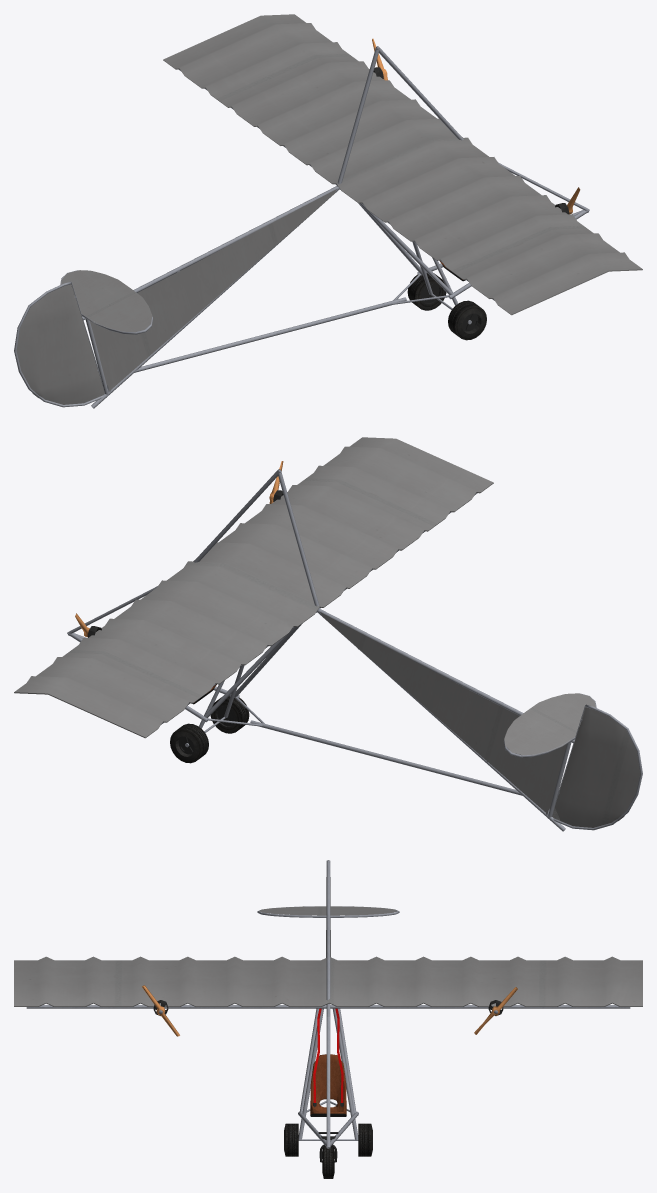
The model's file is avion_electrico.fbx.
3 renders of one model, top to bottom at view 1: azimuth 30°, elevation 25°; view 2: azimuth 150°, elevation 25°; view 3: azimuth 270°, elevation 25°, orthographic. The views are drawn at different scales.
Parts seen in each view (by area): view 1: avion_electrico, LLANTA_TRASERA_DER, LLANTA_TRASERA_IZQ; view 2: avion_electrico, LLANTA_TRASERA_IZQ, LLANTA_TRASERA_DER; view 3: avion_electrico, LLANTA_TRASERA_DER, LLANTA_TRASERA_IZQ.
Part boxes in pixels (x1,y1,x2,y2): avion_electrico: [14, 14, 642, 408]; LLANTA_TRASERA_DER: [448, 300, 486, 340]; LLANTA_TRASERA_IZQ: [407, 273, 446, 310]; avion_electrico: [14, 437, 642, 831]; LLANTA_TRASERA_IZQ: [170, 723, 208, 763]; LLANTA_TRASERA_DER: [210, 696, 249, 733]; avion_electrico: [14, 860, 642, 1162]; LLANTA_TRASERA_DER: [284, 1123, 298, 1156]; LLANTA_TRASERA_IZQ: [358, 1123, 372, 1156].
Size of the model in its own units: 60.86 by 29.62 by 63.82.
Materials: 9 (9 with a texture image).
